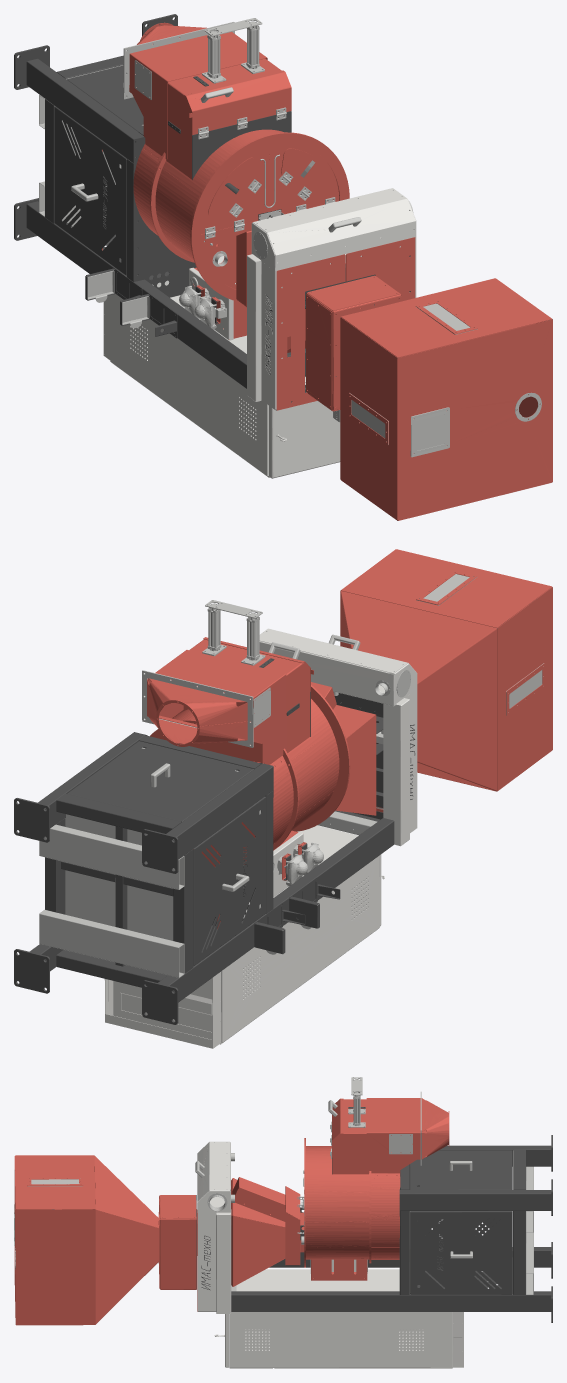
Rendered from treater.glb.
The picture shows the model from 3 angles, top to bottom: view 1: azimuth 30°, elevation 25°; view 2: azimuth 150°, elevation 25°; view 3: azimuth 270°, elevation 25°; orthographic projection. The views are drawn at different scales.
Parts seen in each view (by area): view 1: object 14, object 31, object 7, Стенка бункер _2, Пластина под крышку боковая_1, Стенка бункер, Труба 120х60х3. L = 2019 мм_1, Труба 120х60х3. L = 750 мм_1, Крышка_05, Крышка_3_c1c2fe, Крышка_6, Труба 120х60х3. L = 581 мм_1 (+8 smaller); view 2: object 14, object 31, object 7, Пластина под крышку боковая_1, Стенка бункер _2, Стенка бункер, Труба 120х60х3. L = 2019 мм_1, =>[0:1:1:19], =>[0:1:1:19]_1, Труба 120х60х3. L = 750 мм_1, Пол_1, Пол (+14 smaller); view 3: object 14, object 31, Пластина под крышку боковая, object 7, Труба 120х60х3. L = 2019 мм, Стенка бункер, Труба 120х60х3. L = 750 мм, Труба 120х60х3. L = 581 мм, Труба 120х60х3. L = 750 мм_1, Труба 120х60х3. L = 2019 мм_1, Труба 80х60х2х598, =>[0:1:1:19] (+1 smaller).
Boxes of the visible parts, box(x1,y1,x2,y2) form: object 14: box(129, 22, 552, 520); object 31: box(103, 188, 416, 478); object 7: box(67, 18, 541, 457); Стенка бункер _2: box(340, 317, 397, 520); Пластина под крышку боковая_1: box(54, 106, 126, 275); Стенка бункер: box(341, 278, 551, 357); Труба 120х60х3. L = 2019 мм_1: box(26, 201, 276, 410); Труба 120х60х3. L = 750 мм_1: box(26, 58, 143, 162); Крышка_05: box(208, 157, 258, 217); Крышка_3_c1c2fe: box(201, 222, 252, 286); Крышка_6: box(281, 148, 331, 196); Труба 120х60х3. L = 581 мм_1: box(45, 99, 54, 223); object 14: box(147, 590, 497, 866); object 31: box(104, 628, 417, 1048); object 7: box(67, 600, 410, 966); Пластина под крышку боковая_1: box(193, 796, 265, 966); Стенка бункер _2: box(497, 587, 552, 790); Стенка бункер: box(341, 549, 551, 627); Труба 120х60х3. L = 2019 мм_1: box(158, 818, 394, 1002); =>[0:1:1:19]: box(39, 909, 184, 977); =>[0:1:1:19]_1: box(39, 824, 184, 889); Труба 120х60х3. L = 750 мм_1: box(166, 763, 273, 859); Пол_1: box(65, 814, 115, 926); Пол: box(127, 829, 173, 940); object 14: box(14, 1098, 449, 1325); object 31: box(197, 1141, 463, 1368); Пластина под крышку боковая: box(410, 1211, 512, 1294); object 7: box(14, 1077, 512, 1294); Труба 120х60х3. L = 2019 мм: box(198, 1291, 551, 1311); Стенка бункер: box(15, 1155, 95, 1209); Труба 120х60х3. L = 750 мм: box(400, 1190, 551, 1210); Труба 120х60х3. L = 581 мм: box(513, 1211, 525, 1294); Труба 120х60х3. L = 750 мм_1: box(439, 1145, 551, 1166); Труба 120х60х3. L = 2019 мм_1: box(269, 1247, 551, 1267); Труба 80х60х2х598: box(513, 1149, 525, 1189); =>[0:1:1:19]: box(526, 1232, 533, 1294).
Size of the model in its own units: 0.9273 by 1.84 by 3.38.
